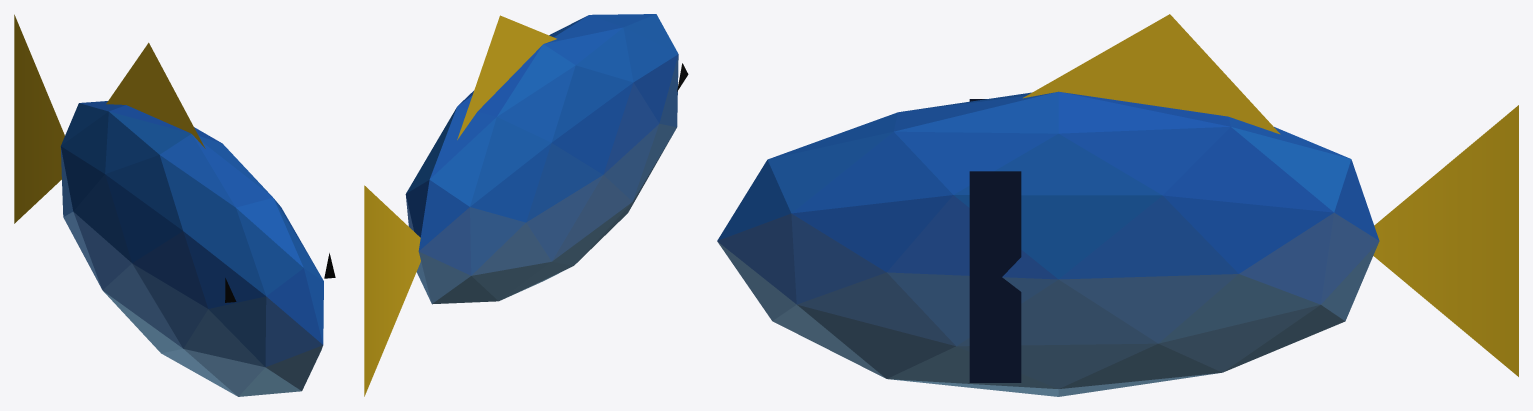
File: fish_blue.glb
3 renders of one model, left to right at view 1: azimuth 30°, elevation 25°; view 2: azimuth 150°, elevation 25°; view 3: azimuth 270°, elevation 25°, orthographic. The views are drawn at different scales.
Parts seen in each view (by area): view 1: fish_blue_solid, fish_blue_wing; view 2: fish_blue_solid, fish_blue_wing; view 3: fish_blue_solid, fish_blue_wing.
Boxes of the visible parts, x1,y1,x2,y2 form: fish_blue_solid: [60, 101, 335, 396]; fish_blue_wing: [14, 14, 205, 223]; fish_blue_solid: [405, 14, 688, 304]; fish_blue_wing: [364, 15, 556, 396]; fish_blue_solid: [717, 91, 1379, 396]; fish_blue_wing: [1023, 14, 1518, 376].
Size of the model in its own units: 0.0679 by 0.1594 by 0.3024.
